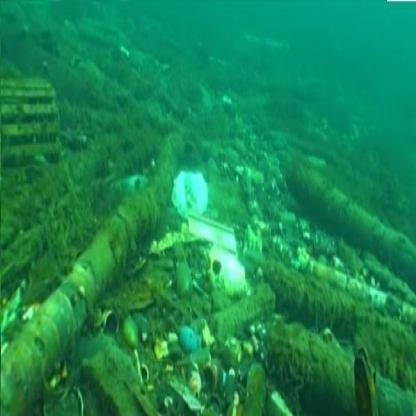misc: (168, 172, 234, 288)
rod: (14, 198, 160, 390), (289, 108, 416, 295), (267, 280, 416, 416)
